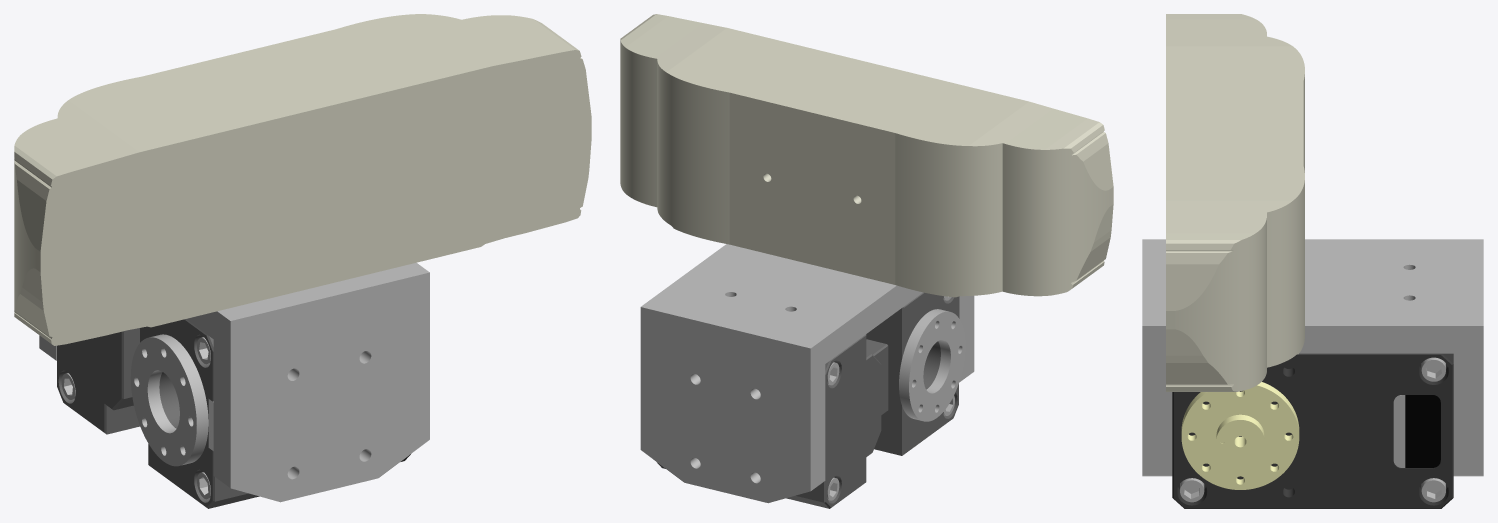
The model's file is camera.obj.
3 views of the same model, side by side, from view 1: azimuth 30°, elevation 25°; view 2: azimuth 150°, elevation 25°; view 3: azimuth 270°, elevation 25° (orthographic). The views are drawn at different scales.
Parts seen in each view (by area): view 1: Solid2, Solid1:16, Solid1:5, Solid1:14, Solid1:17; view 2: Solid2, Solid1:18, Solid1:17, Solid1:5, Solid1:14, Solid1:16; view 3: Solid2, Solid1:3, Solid1:17, Solid1, Solid1:18, Solid1:16, Solid1:1, Solid1:2, Solid1:7, Solid1:6, Solid1:9.
Boxes of the visible parts, left/top/right/bottom form: Solid2: left=14, top=14, right=591, bottom=345; Solid1:16: left=213, top=262, right=429, bottom=502; Solid1:5: left=57, top=319, right=257, bottom=508; Solid1:14: left=130, top=334, right=208, bottom=466; Solid1:17: left=186, top=268, right=407, bottom=346; Solid2: left=620, top=14, right=1113, bottom=297; Solid1:18: left=640, top=296, right=825, bottom=503; Solid1:17: left=655, top=244, right=922, bottom=370; Solid1:5: left=788, top=292, right=958, bottom=508; Solid1:14: left=899, top=309, right=965, bottom=421; Solid1:16: left=959, top=296, right=974, bottom=382; Solid2: left=1166, top=14, right=1304, bottom=391; Solid1:3: left=1172, top=353, right=1453, bottom=508; Solid1:17: left=1142, top=239, right=1483, bottom=353; Solid1: left=1181, top=382, right=1299, bottom=489; Solid1:18: left=1453, top=239, right=1483, bottom=476; Solid1:16: left=1142, top=239, right=1172, bottom=476; Solid1:1: left=1405, top=395, right=1440, bottom=467; Solid1:2: left=1393, top=395, right=1405, bottom=467; Solid1:7: left=1421, top=357, right=1445, bottom=381; Solid1:6: left=1421, top=478, right=1445, bottom=502; Solid1:9: left=1180, top=478, right=1204, bottom=502.
Size of the model in its own units: 0.094 by 0.0625 by 0.0565.
